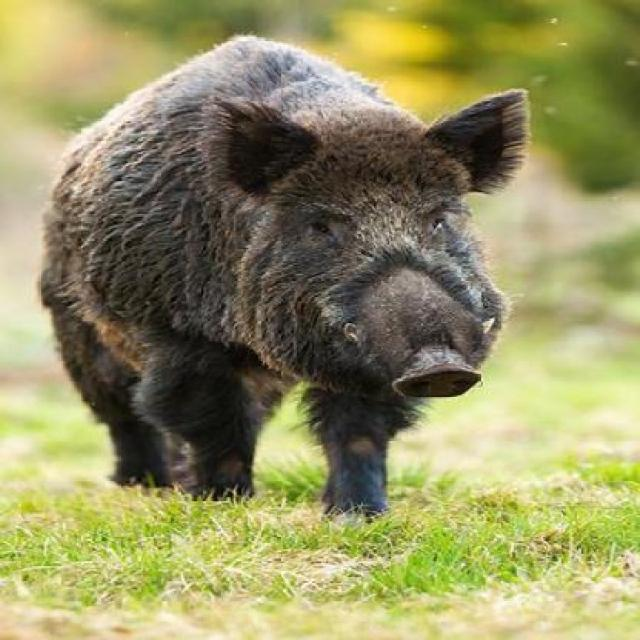wildboar: (29, 26, 534, 523)
